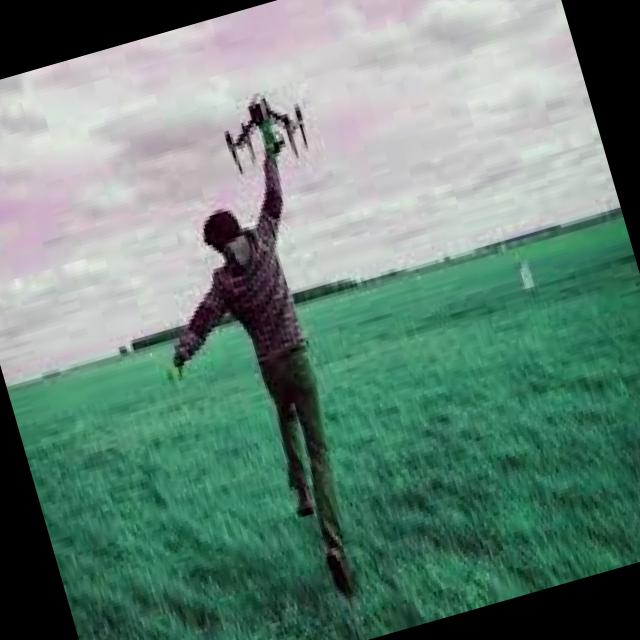drone: (192, 59, 330, 191)
